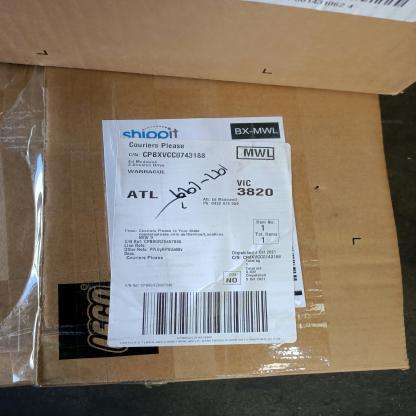label: (102, 121, 324, 352)
package: (39, 66, 409, 387), (0, 0, 416, 95)
